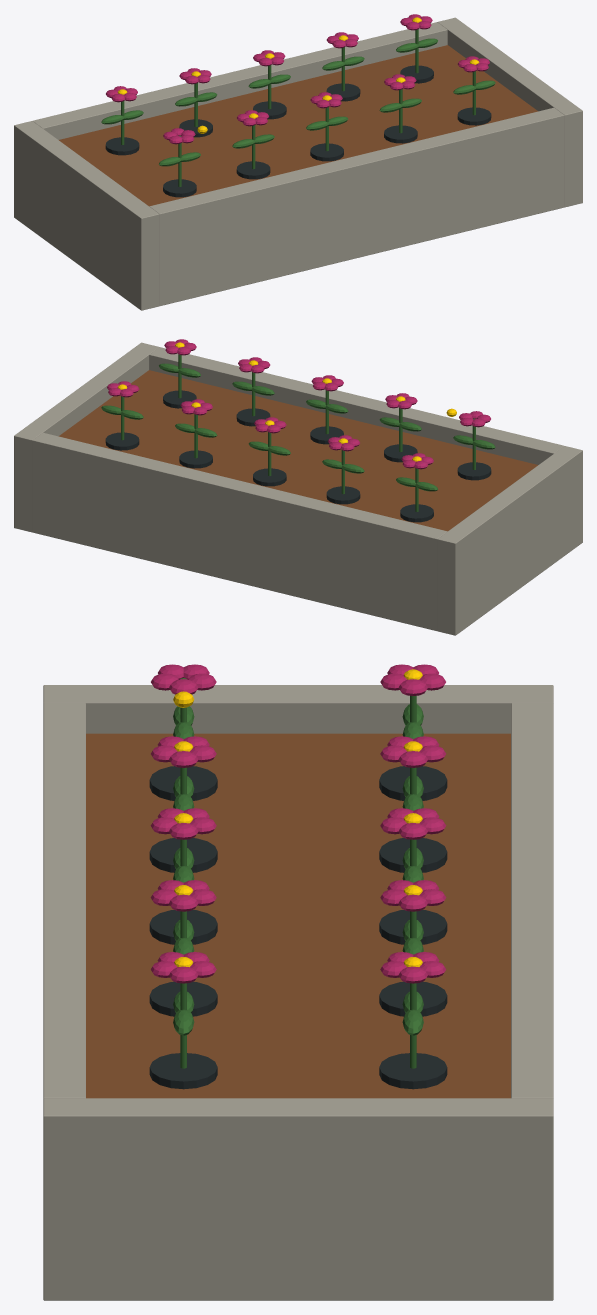
The model's file is source-edit.glb.
3 views of the same model, one above another, from view 1: azimuth 30°, elevation 25°; view 2: azimuth 150°, elevation 25°; view 3: azimuth 270°, elevation 25° (orthographic). The views are drawn at different scales.
Visible parts, largest first — view 1: Raised_Border.002, Soil, Raised_Border, Raised_Border.003, Raised_Border.001, Plant_Socket, Plant_Socket.001, Plant_Socket.008, Plant_Socket.002, Plant_Socket.004, Plant_Socket.006, Plant_Socket.007 (+2 smaller); view 2: Raised_Border.003, Soil, Raised_Border, Raised_Border.002, Raised_Border.001, Plant_Socket.001, Plant_Socket, Plant_Socket.009, Plant_Socket.003, Plant_Socket.005, Plant_Socket.007, Plant_Socket.006 (+3 smaller); view 3: Soil, Raised_Border.001, Raised_Border, Raised_Border.002, Raised_Border.003, Plant_Socket.008, Plant_Socket.009, Plant_Socket, Plant_Socket.001, Plant_Socket.006, Plant_Socket.007, Plant_Socket.002 (+3 smaller).
Boxes of the visible parts, left/top/right/bottom form: Raised_Border.002: left=149, top=107, right=564, bottom=305; Soil: left=59, top=45, right=538, bottom=206; Raised_Border: left=14, top=121, right=159, bottom=310; Raised_Border.003: left=33, top=22, right=447, bottom=139; Raised_Border.001: left=437, top=17, right=582, bottom=207; Plant_Socket: left=163, top=179, right=196, bottom=197; Plant_Socket.001: left=105, top=137, right=139, bottom=155; Plant_Socket.008: left=457, top=107, right=491, bottom=125; Plant_Socket.002: left=236, top=161, right=270, bottom=179; Plant_Socket.004: left=310, top=143, right=343, bottom=161; Plant_Socket.006: left=384, top=125, right=417, bottom=143; Plant_Socket.007: left=326, top=83, right=360, bottom=101; Raised_Border.003: left=32, top=432, right=447, bottom=630; Soil: left=58, top=370, right=537, bottom=531; Raised_Border: left=437, top=446, right=582, bottom=635; Raised_Border.002: left=149, top=347, right=563, bottom=464; Raised_Border.001: left=14, top=342, right=159, bottom=532; Plant_Socket.001: left=400, top=504, right=433, bottom=522; Plant_Socket: left=457, top=462, right=491, bottom=480; Plant_Socket.009: left=105, top=432, right=139, bottom=450; Plant_Socket.003: left=326, top=486, right=360, bottom=504; Plant_Socket.005: left=253, top=468, right=286, bottom=486; Plant_Socket.007: left=179, top=450, right=212, bottom=468; Plant_Socket.006: left=236, top=408, right=270, bottom=426; Soil: left=86, top=733, right=510, bottom=1098; Raised_Border.001: left=43, top=1098, right=553, bottom=1300; Raised_Border: left=43, top=685, right=553, bottom=733; Raised_Border.002: left=43, top=703, right=85, bottom=1098; Raised_Border.003: left=511, top=703, right=553, bottom=1098; Plant_Socket.008: left=149, top=1053, right=217, bottom=1089; Plant_Socket.009: left=379, top=1053, right=447, bottom=1089; Plant_Socket: left=149, top=766, right=217, bottom=800; Plant_Socket.001: left=379, top=766, right=447, bottom=800; Plant_Socket.006: left=149, top=981, right=217, bottom=1016; Plant_Socket.007: left=379, top=981, right=447, bottom=1016; Plant_Socket.002: left=149, top=838, right=217, bottom=872.
Size of the model in its own units: 2.4 by 0.703 by 1.2.
